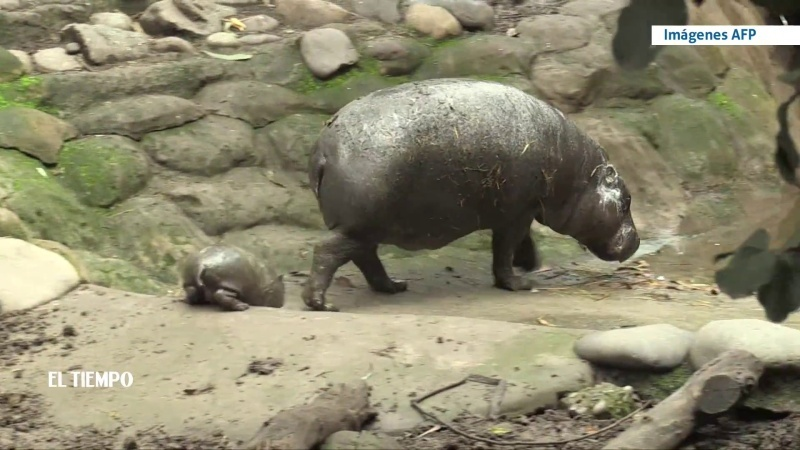hipopotamo: (294, 71, 661, 322), (163, 216, 288, 323)
